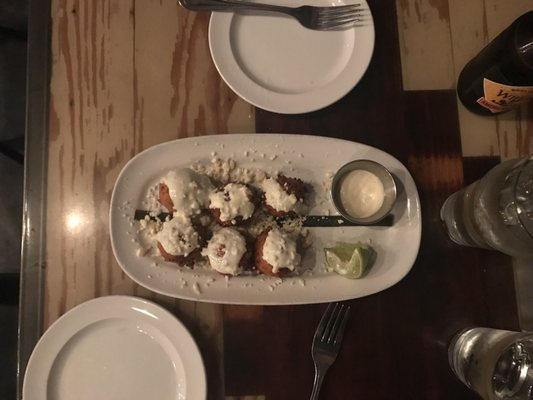salad: (302, 213, 397, 228)
sushi: (109, 132, 417, 310), (331, 159, 397, 224)
